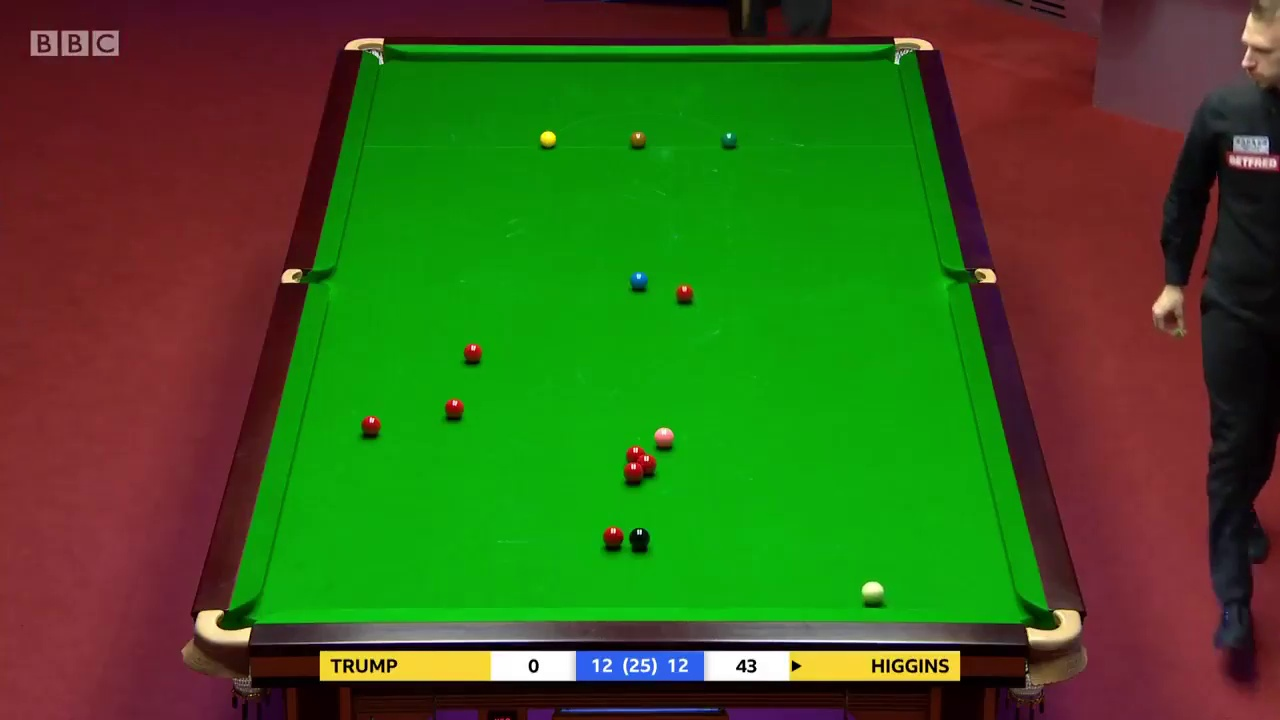ball: (859, 575, 884, 604), (534, 128, 563, 151), (357, 413, 381, 437), (619, 461, 643, 485), (625, 270, 651, 292), (654, 426, 677, 449), (628, 527, 651, 549), (603, 525, 624, 549), (627, 129, 648, 150), (675, 282, 694, 305), (461, 342, 482, 361), (444, 398, 463, 419), (720, 128, 737, 150)
